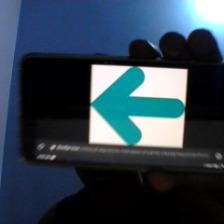left: (92, 68, 182, 144)
